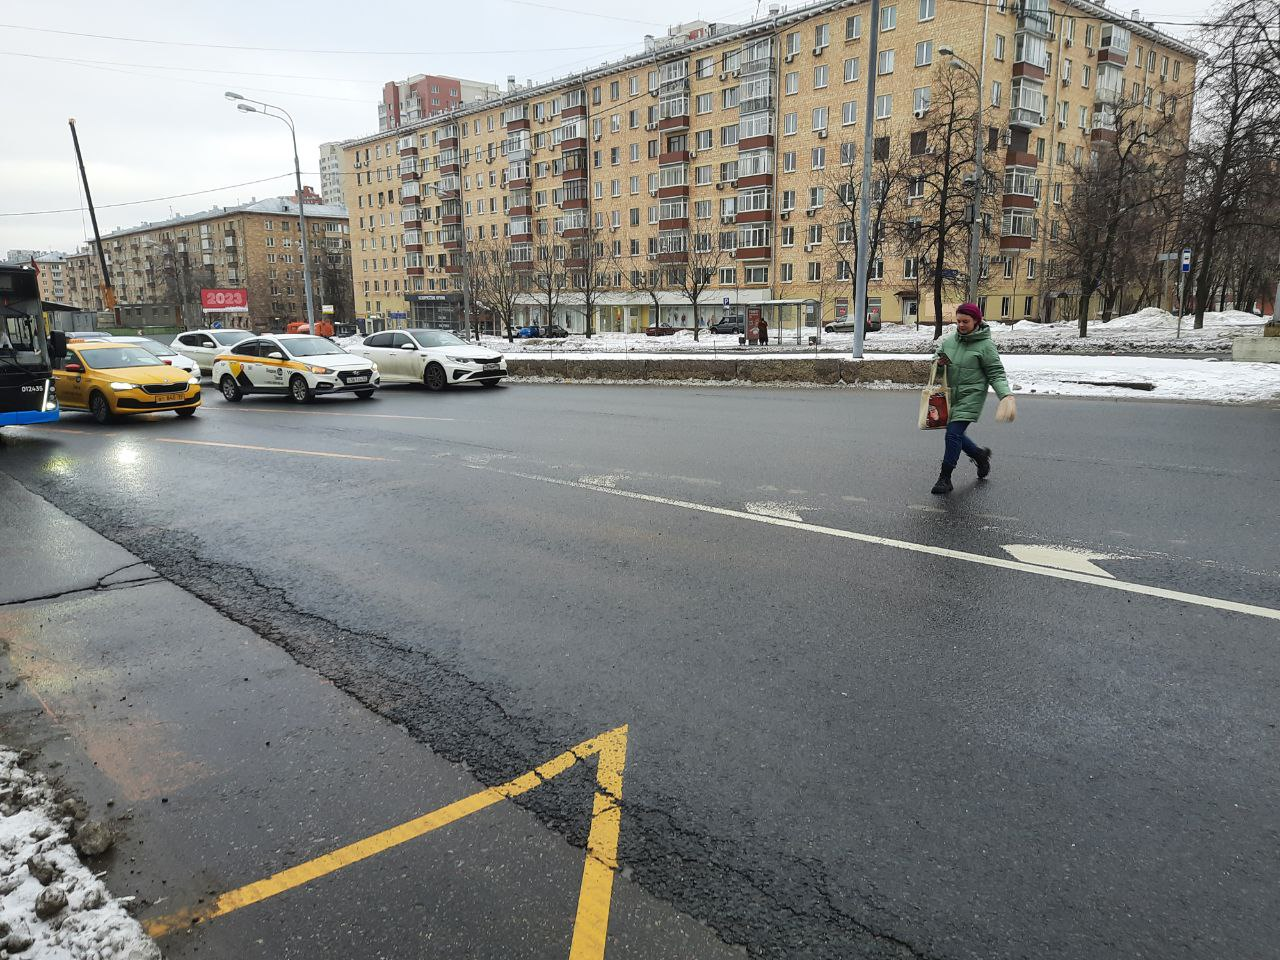sombie: (909, 292, 1045, 501)
